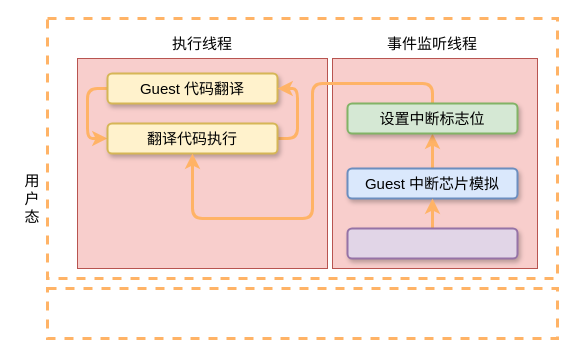
The diagram is 576 pixels wide and 357 high, and some of its shapes have lost their labels. Here are the shapes that lost their labels. From the top down, the centre of each, then its label:
At (433,244): "epoll".
At (302,313): "操作系统".
